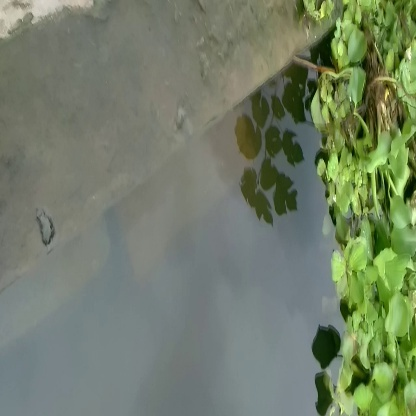grass: (339, 231, 412, 416)
